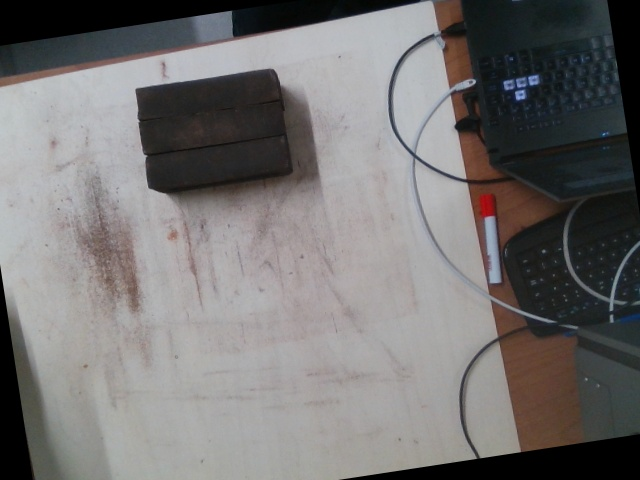brick-side: (137, 69, 276, 119), (149, 137, 288, 187), (143, 103, 281, 153)
